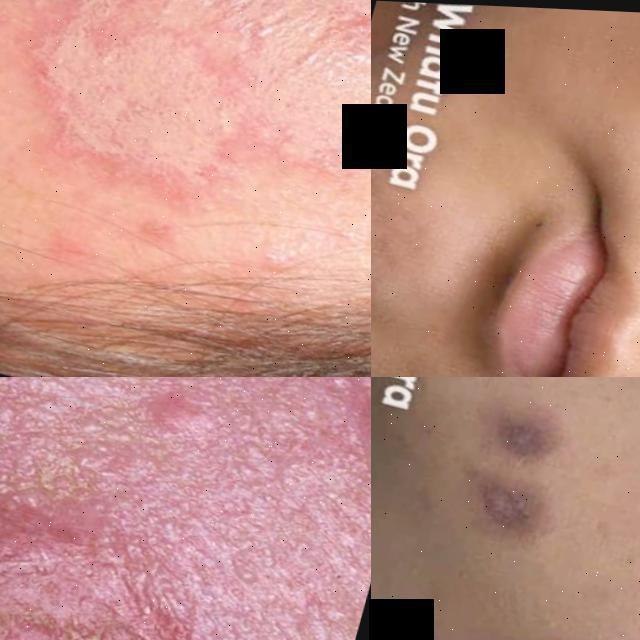lupus-detected: (0, 0, 371, 368), (0, 451, 262, 640), (404, 402, 589, 640), (235, 377, 371, 598)
